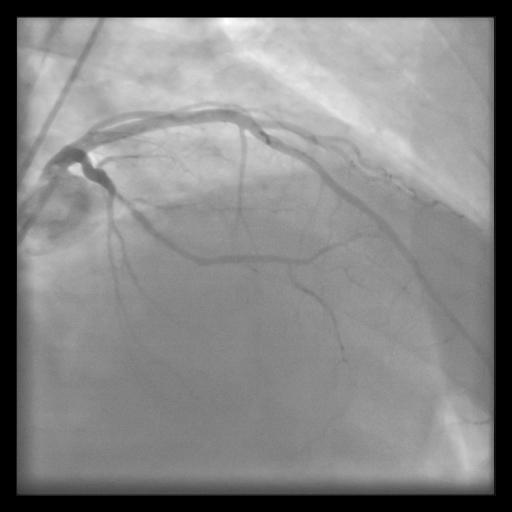Stenosis: (107, 180, 129, 213)
